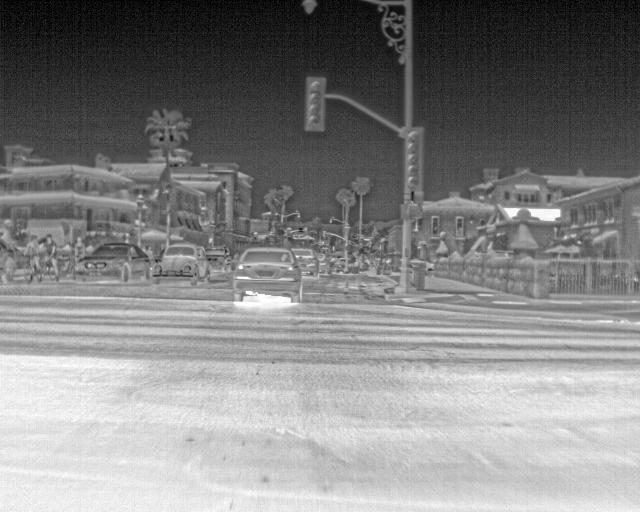bicycle: (229, 245, 305, 301), (72, 242, 156, 280), (148, 244, 208, 283), (292, 246, 316, 276)
empty: (22, 239, 48, 282), (44, 238, 62, 284)
